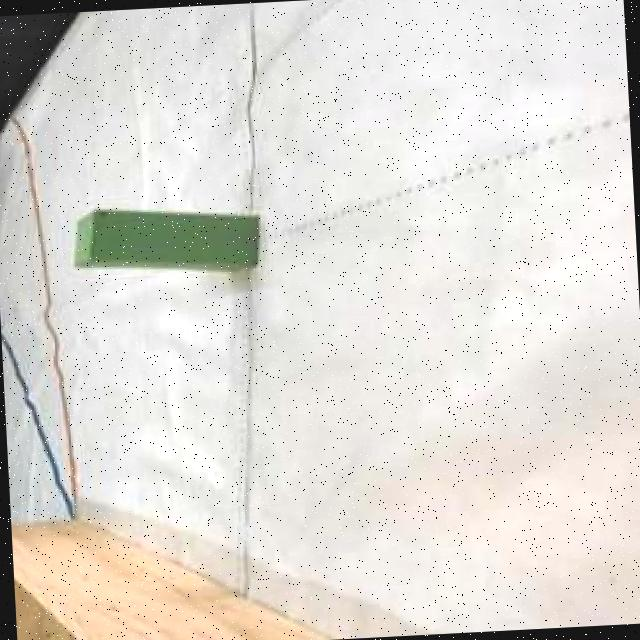greenbox: (78, 206, 257, 273)
